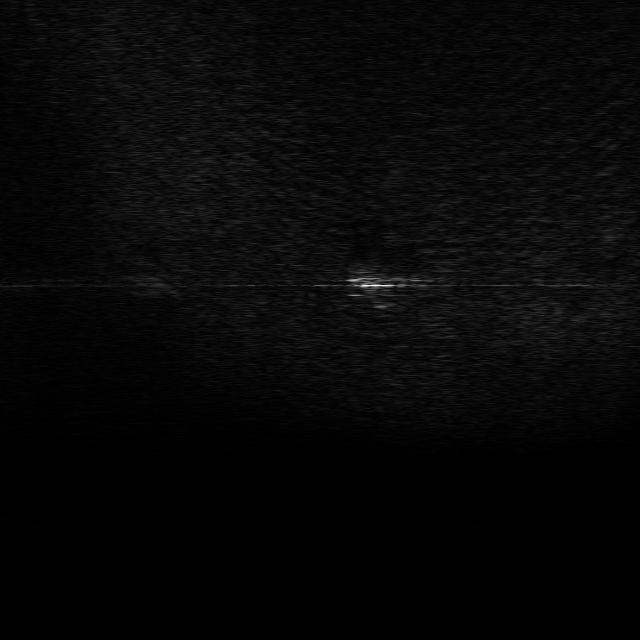plane: (342, 264, 428, 297)
